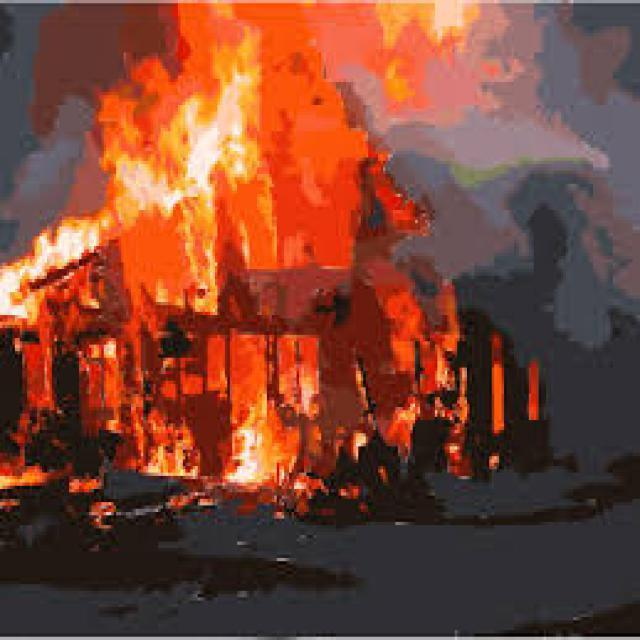Fire: (18, 0, 554, 537)
Smoke: (418, 0, 640, 322)
